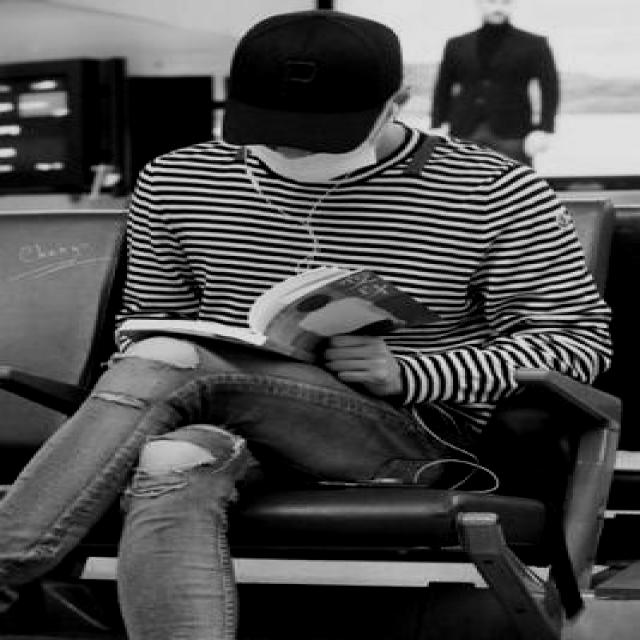face_mask: (250, 120, 384, 184)
hand_noglove: (318, 330, 402, 387)
head_nohelmet: (214, 10, 408, 148)
person: (29, 13, 640, 640)
